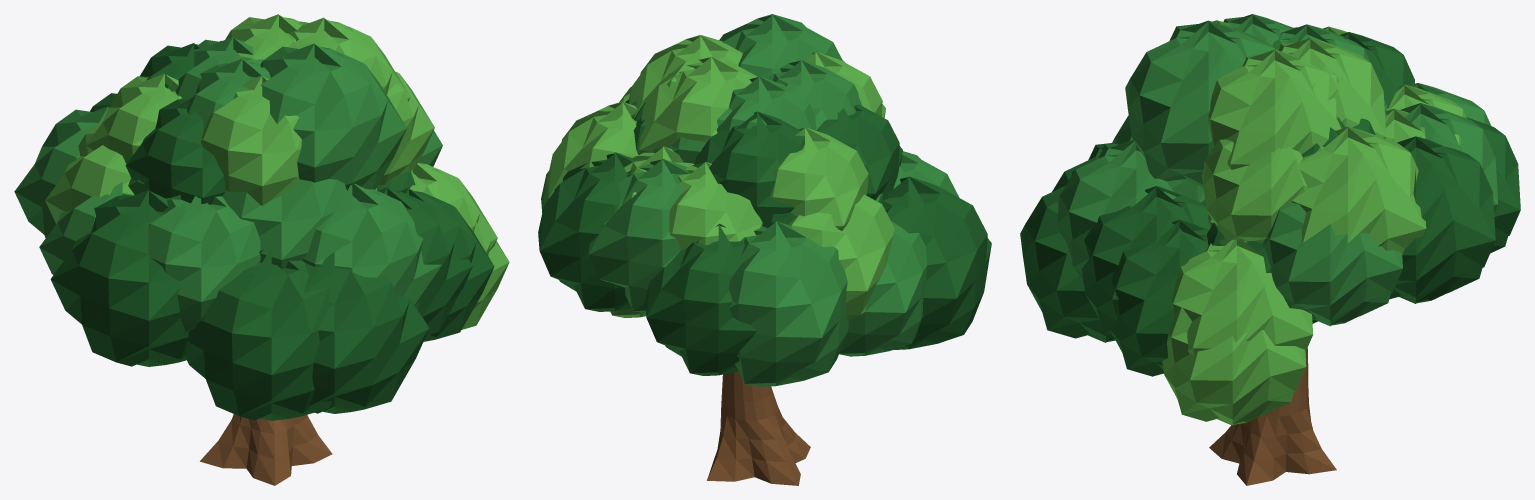
The model's file is tree.obj.
3 renders of one model, left to right at view 1: azimuth 30°, elevation 25°; view 2: azimuth 150°, elevation 25°; view 3: azimuth 270°, elevation 25°, orthographic. The views are drawn at different scales.
Visible parts, largest first — view 1: leaves_dark, leaves_mid, leaves_light, trunk; view 2: leaves_mid, leaves_dark, leaves_light, trunk; view 3: leaves_light, leaves_dark, leaves_mid, trunk.
Part boxes in pixels (left/top/right/bottom): leaves_dark: left=50, top=43, right=494, bottom=420; leaves_mid: left=14, top=37, right=442, bottom=332; leaves_light: left=45, top=14, right=509, bottom=329; trunk: left=200, top=414, right=332, bottom=485; leaves_mid: left=541, top=14, right=959, bottom=386; leaves_dark: left=538, top=100, right=991, bottom=375; leaves_light: left=547, top=35, right=894, bottom=321; trunk: left=707, top=371, right=810, bottom=485; leaves_light: left=1162, top=20, right=1466, bottom=425; leaves_dark: left=1020, top=32, right=1520, bottom=376; leaves_mid: left=1058, top=14, right=1498, bottom=326; trunk: left=1209, top=348, right=1336, bottom=485.
Size of the model in its own units: 91.2 by 91.27 by 92.63.
